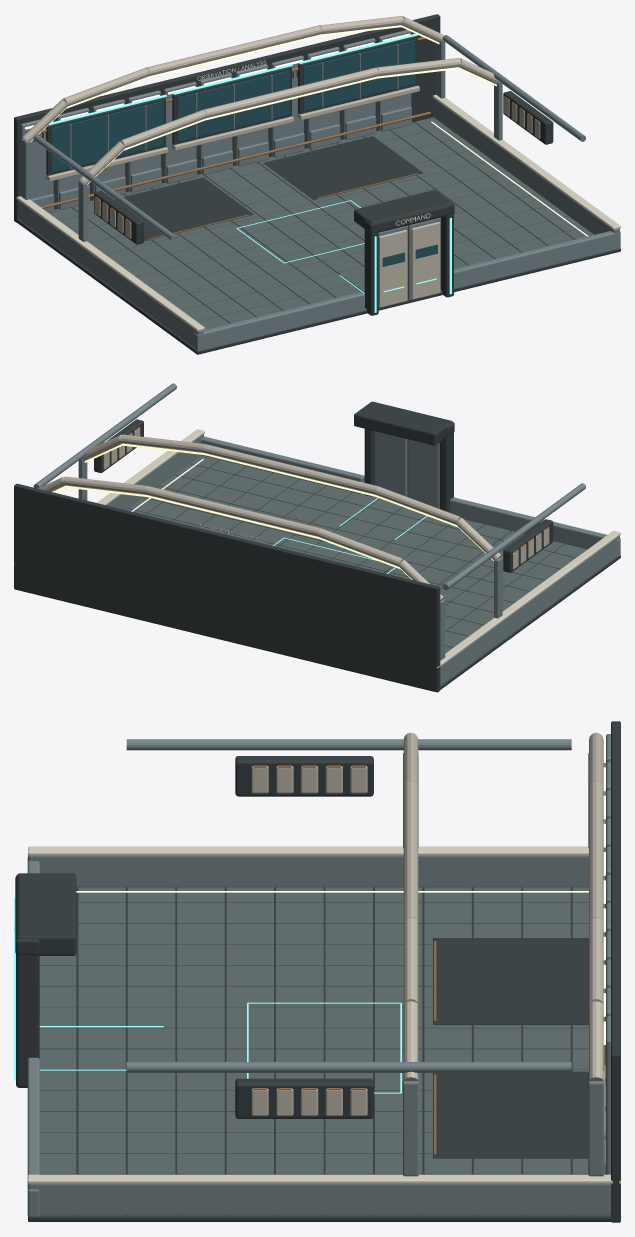
The model's file is review-shell.glb.
The picture shows the model from 3 angles, top to bottom: view 1: azimuth 30°, elevation 25°; view 2: azimuth 150°, elevation 25°; view 3: azimuth 270°, elevation 25°; orthographic projection. The views are drawn at different scales.
Parts seen in each view (by area): view 1: Floor_Floor, InteriorRevealRail_Steel, Floor_Graphite, InteriorRevealBack_Steel, InteriorRevealObservation_Glass, InteriorRevealBridge_Ivory, InteriorRevealBack_Graphite, CutawayEntrance_Graphite, InteriorRevealBridge_Steel, InteriorRevealRail_Edge, InteriorRevealObservation_Graphite, InteriorRevealObservation_Ivory (+9 smaller); view 2: InteriorRevealBack_Graphite, Floor_Floor, InteriorRevealBridge_Ivory, InteriorRevealRail_Steel, CutawayEntrance_Graphite, InteriorRevealBridge_Steel, InteriorRevealRail_Edge, DoorLeft_Steel, InteriorRevealBridge_Warm, DoorRight_Steel, Floor_Graphite, InteriorRevealBridge_Graphite; view 3: Floor_Floor, InteriorRevealRail_Steel, Floor_Graphite, InteriorRevealBridge_Ivory, InteriorRevealBridge_Steel, InteriorRevealRail_Edge, CutawayEntrance_Graphite, InteriorRevealBridge_Graphite, InteriorRevealBack_Graphite, InteriorRevealBack_Steel, Floor_Accent, Floor_Warm (+1 smaller).
Boxes of the visible parts, x1=… form: Floor_Floor: x1=17, y1=117, x2=593, y2=348; InteriorRevealRail_Steel: x1=17, y1=98, x2=620, y2=351; Floor_Graphite: x1=14, y1=123, x2=620, y2=354; InteriorRevealBack_Steel: x1=20, y1=30, x2=411, y2=212; InteriorRevealObservation_Glass: x1=51, y1=39, x2=415, y2=172; InteriorRevealBridge_Ivory: x1=22, y1=16, x2=540, y2=238; InteriorRevealBack_Graphite: x1=14, y1=14, x2=440, y2=222; CutawayEntrance_Graphite: x1=354, y1=190, x2=454, y2=315; InteriorRevealBridge_Steel: x1=21, y1=35, x2=585, y2=241; InteriorRevealRail_Edge: x1=14, y1=94, x2=620, y2=331; InteriorRevealObservation_Graphite: x1=46, y1=35, x2=417, y2=175; InteriorRevealObservation_Ivory: x1=45, y1=85, x2=419, y2=181; InteriorRevealBack_Graphite: x1=14, y1=483, x2=440, y2=692; Floor_Floor: x1=126, y1=455, x2=616, y2=686; InteriorRevealBridge_Ivory: x1=38, y1=428, x2=549, y2=600; InteriorRevealRail_Steel: x1=106, y1=434, x2=620, y2=685; CutawayEntrance_Graphite: x1=354, y1=401, x2=454, y2=512; InteriorRevealBridge_Steel: x1=33, y1=383, x2=585, y2=660; InteriorRevealRail_Edge: x1=14, y1=429, x2=620, y2=668; DoorLeft_Steel: x1=407, y1=439, x2=439, y2=508; InteriorRevealBridge_Warm: x1=52, y1=443, x2=493, y2=579; DoorRight_Steel: x1=374, y1=431, x2=407, y2=496; Floor_Graphite: x1=145, y1=460, x2=620, y2=690; InteriorRevealBridge_Graphite: x1=94, y1=419, x2=553, y2=572; Floor_Floor: x1=39, y1=887, x2=611, y2=1216; InteriorRevealRail_Steel: x1=27, y1=856, x2=611, y2=1217; Floor_Graphite: x1=28, y1=888, x2=620, y2=1221; InteriorRevealBridge_Ivory: x1=251, y1=732, x2=603, y2=1115; InteriorRevealBridge_Steel: x1=126, y1=739, x2=604, y2=1176; InteriorRevealRail_Edge: x1=28, y1=846, x2=620, y2=1184; CutawayEntrance_Graphite: x1=15, y1=873, x2=76, y2=1087; InteriorRevealBridge_Graphite: x1=235, y1=756, x2=373, y2=1118; InteriorRevealBack_Graphite: x1=604, y1=721, x2=620, y2=1222; InteriorRevealBack_Steel: x1=604, y1=734, x2=610, y2=1174; Floor_Accent: x1=39, y1=1002, x2=401, y2=1093; Floor_Warm: x1=76, y1=891, x2=588, y2=892.
Size of the model in its own units: 16 by 4.63 by 12.28.
